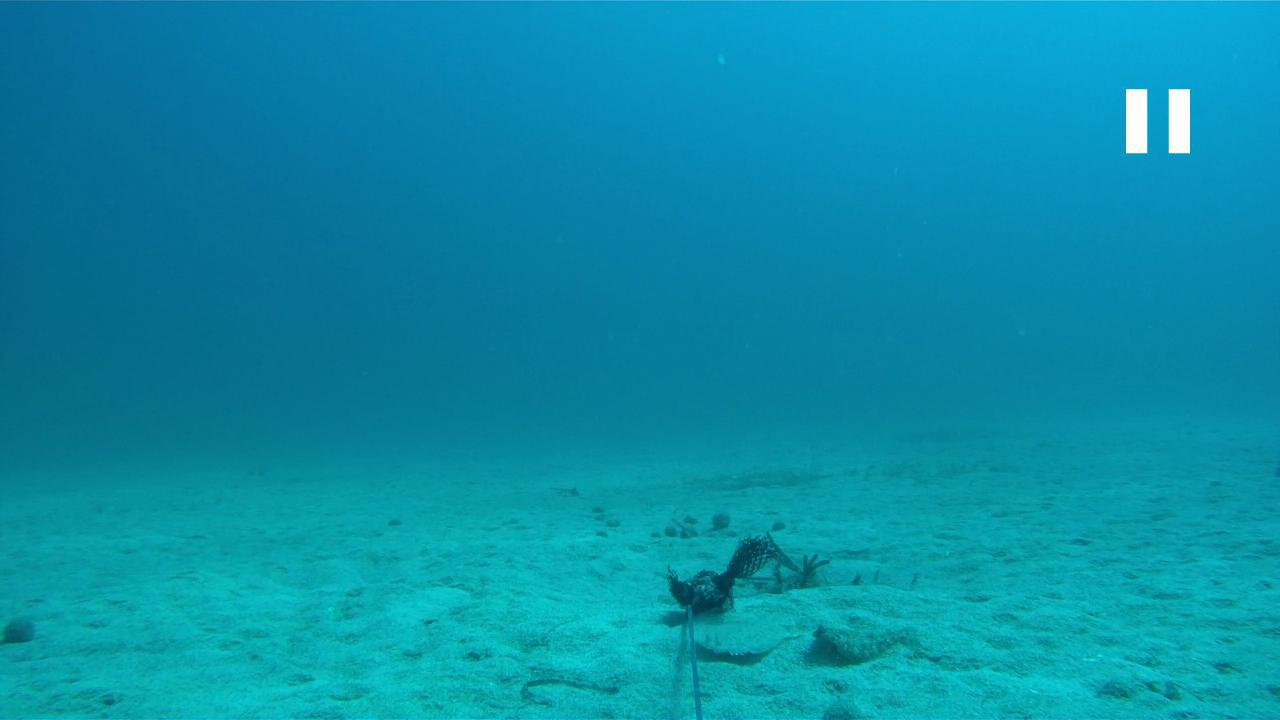bothus: (806, 616, 929, 665), (694, 617, 800, 663)
